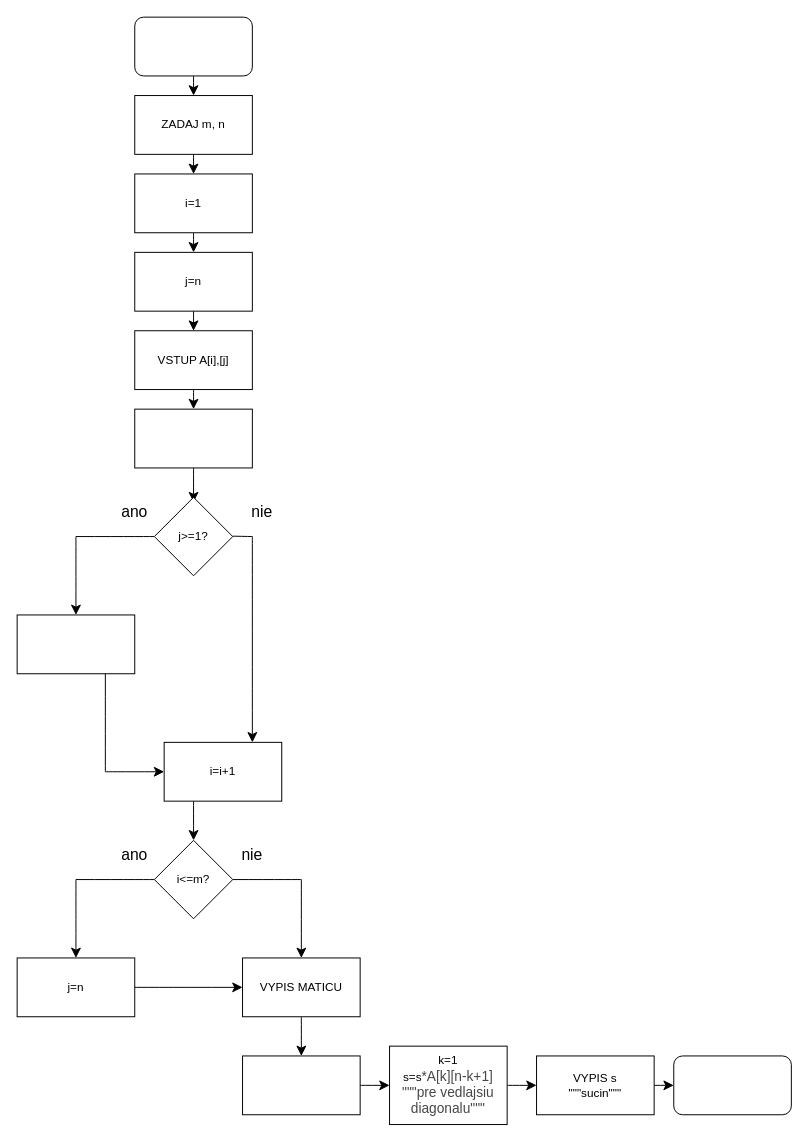
Image size: 809x1142. Some labels were removed from this diagram. Here are the shapes that lost their labels. From the top down, the centre of each, then its label:
pixel 193 46: START
pixel 193 438: j=j-1
pixel 75 644: VSTUP A [i],[j]
pixel 301 1085: s=1 """sucin"""
pixel 732 1085: KONIEC
